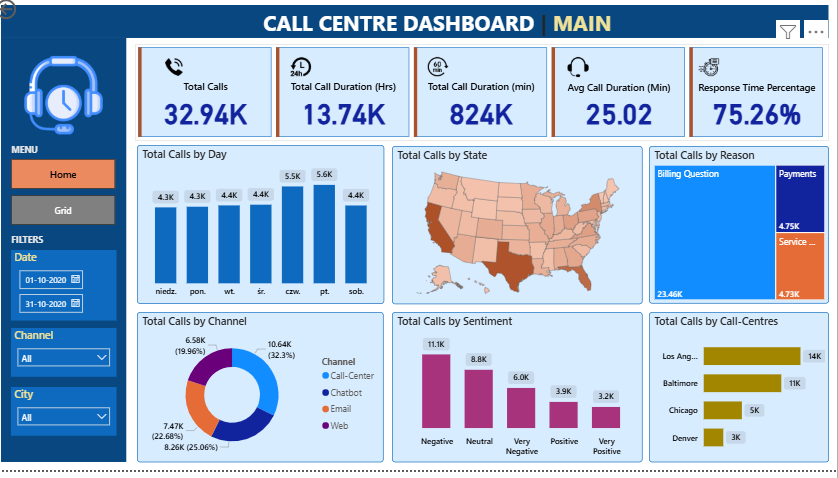

What the dashboard file says about the page in this screenshot:
{"tool":"powerbi","page":{"name":"Page 1","canvas":[1280,720],"ordinal":0},"visuals":[{"type":"card","fields":{"Values":["CC.Count of Calls"]},"box":[252.3,13.1,227.3,165.5],"z":0,"group":"g1"},{"type":"columnChart","title":"Calls per CC","fields":{"Y":["CC.Count of Calls"],"Category":["CC.Call-Centres City"]},"box":[226.7,192,337.3,254.7],"z":0},{"type":"tableEx","title":"Top 5 States per Call count","fields":{"Values":["CC.City","CC.Count of Calls"]},"box":[226.7,461.3,337.3,253.3],"z":1000},{"type":"card","fields":{"Values":["CC.Total Call Duration(H)"]},"box":[489.6,13.2,226.7,165.3],"z":2000,"group":"g1"},{"type":"treemap","title":"Calls by Reason","fields":{"Group":["CC.Reason"],"Values":["CC.Count of Calls"]},"box":[580.7,461.2,337.7,254.9],"z":2000},{"type":"donutChart","title":"Calls by Channel","fields":{"Category":["CC.Channel"],"Y":["CountNonNull(CC.Channel)"]},"box":[936,461.3,337.3,254.7],"z":3000},{"type":"card","fields":{"Values":["CC.Average call Duration"]},"box":[726.6,13.1,241.8,165.5],"z":4000,"group":"g1"},{"type":"clusteredBarChart","title":"Calls by Segment","fields":{"Category":["CC.Segtiment"],"Y":["CC.Count of Calls"]},"box":[581.3,192,337.3,254.7],"z":4000},{"type":"shapeMap","title":"Calls by State","fields":{"Category":["CC.State"],"Value":["CC.Count of Calls"]},"box":[980.2,14.4,266.7,165.5],"z":5000,"group":"g1"},{"type":"image","box":[67,52.6,106.4,119.6],"z":5000},{"type":"image","box":[726.9,9.2,52,61.3],"z":6000,"group":"g1"},{"type":"advancedSlicerVisual","fields":{"Values":["CC.Channel"]},"box":[17.1,191.8,187.9,254.9],"z":6000},{"type":"advancedSlicerVisual","fields":{"Values":["CC.Call-Centres City"]},"box":[17.1,459.9,187.9,254.9],"z":7000},{"type":"image","box":[478.9,14.5,89.3,57.3],"z":8000,"group":"g1"},{"type":"textbox","box":[17.1,13.1,224.7,39.4],"z":8000},{"type":"group","id":"g1","title":"Group 1","box":[252.3,9.2,994.6,170.8],"z":9000},{"type":"columnChart","title":"Calls per CC","fields":{"Category":["CC.SLA"],"Y":["CountNonNull(CC.SLA)"]},"box":[935.5,191.8,337.7,254.9],"z":10000},{"type":"image","box":[252.3,13.1,59.1,63.1],"z":15500,"group":"g1"}]}

Visuals, with their boxes in screenshot pixels (x1, y1, x2, y2), scaled from the page's 1280x720 canvas onto the 838x478 screenshot:
card - CC.Count of Calls: select_region(165, 9, 314, 119)
"Calls per CC" columnChart: select_region(148, 127, 369, 297)
"Top 5 States per Call count" tableEx: select_region(148, 306, 369, 474)
card - CC.Total Call Duration(H): select_region(321, 9, 469, 119)
"Calls by Reason" treemap: select_region(380, 306, 601, 475)
"Calls by Channel" donutChart: select_region(613, 306, 834, 475)
card - CC.Average call Duration: select_region(476, 9, 634, 119)
"Calls by Segment" clusteredBarChart: select_region(381, 127, 601, 297)
"Calls by State" shapeMap: select_region(642, 10, 816, 119)
image: select_region(44, 35, 114, 114)
image: select_region(476, 6, 510, 47)
advancedSlicerVisual - CC.Channel: select_region(11, 127, 134, 297)
advancedSlicerVisual - CC.Call-Centres City: select_region(11, 305, 134, 475)
image: select_region(314, 10, 372, 48)
textbox: select_region(11, 9, 158, 35)
"Group 1" group: select_region(165, 6, 816, 120)
"Calls per CC" columnChart: select_region(612, 127, 834, 297)
image: select_region(165, 9, 204, 51)
